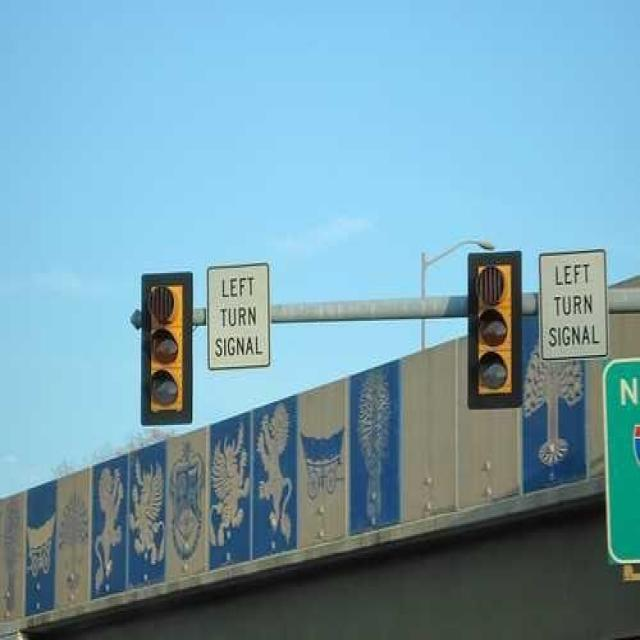Traffic Light -Off-: (466, 246, 518, 408), (139, 268, 187, 423)
